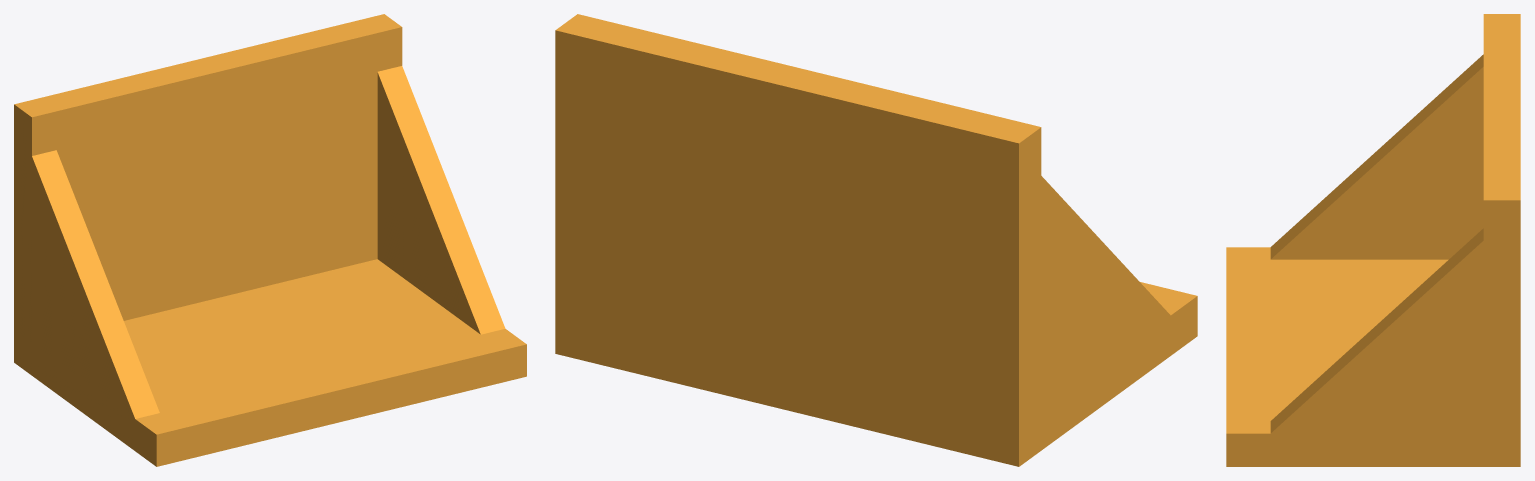
3 renders of one model, left to right at view 1: azimuth 30°, elevation 25°; view 2: azimuth 150°, elevation 25°; view 3: azimuth 270°, elevation 25°, orthographic. The views are drawn at different scales.
Parts seen in each view (by area): view 1: Bracket v3; view 2: Bracket v3; view 3: Bracket v3.
Boxes of the visible parts, box(x1,y1,x2,y2) form: Bracket v3: box(14, 14, 526, 466); Bracket v3: box(555, 14, 1197, 466); Bracket v3: box(1226, 14, 1520, 466).
Bounding box in the file's own units: 60 × 40 × 40.
